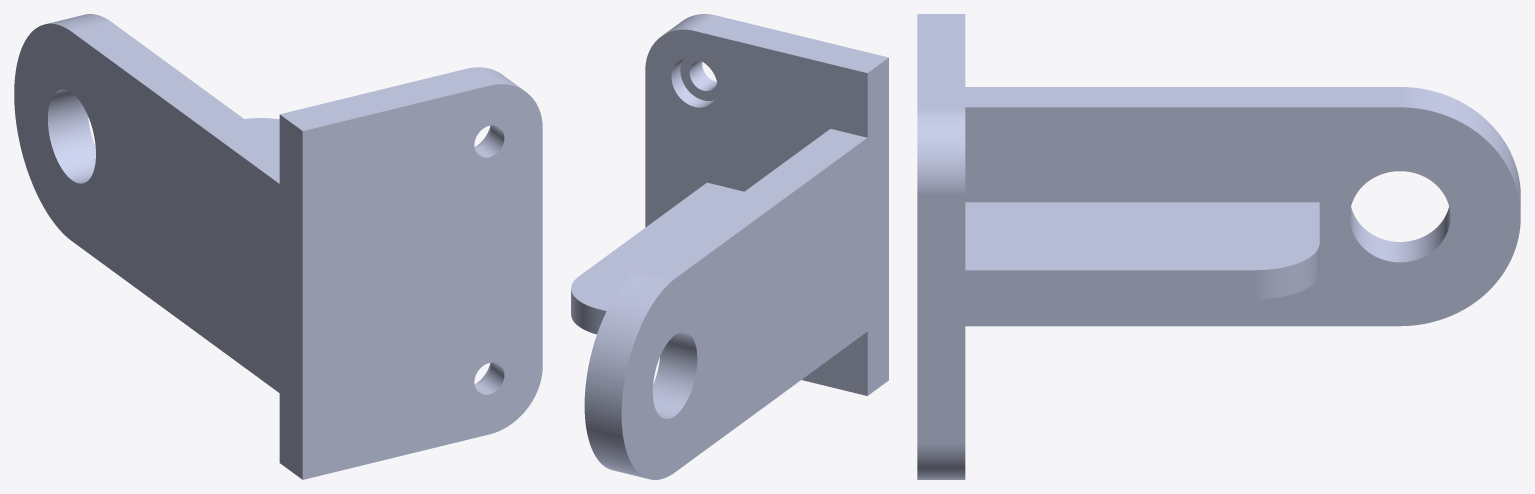
3 views of the same model, side by side, from view 1: azimuth 30°, elevation 25°; view 2: azimuth 150°, elevation 25°; view 3: azimuth 270°, elevation 25° (orthographic). The views are drawn at different scales.
Parts seen in each view (by area): view 1: M8 六角凹头螺钉的柱形沉头孔1; view 2: M8 六角凹头螺钉的柱形沉头孔1; view 3: M8 六角凹头螺钉的柱形沉头孔1.
Boxes of the visible parts, <box> form: M8 六角凹头螺钉的柱形沉头孔1: <box>14,14,542,479</box>; M8 六角凹头螺钉的柱形沉头孔1: <box>571,14,888,479</box>; M8 六角凹头螺钉的柱形沉头孔1: <box>917,14,1520,479</box>.
Bounding box in the file's own units: 2.83 × 3.94 × 5.91.
